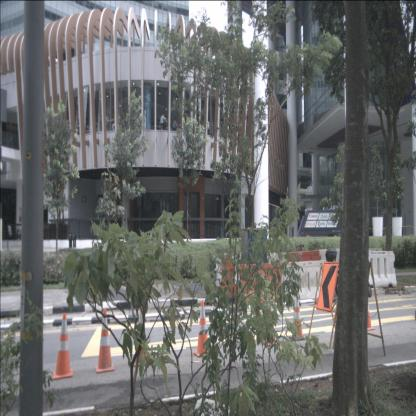movable_object-barrier: (284, 260, 328, 303), (361, 250, 397, 288), (286, 250, 321, 289), (318, 249, 352, 288)
movable_object-trafficcone: (52, 313, 74, 380), (96, 309, 116, 373), (194, 300, 212, 358), (289, 292, 305, 341), (361, 289, 376, 331)
vehicle-motorcycle: (325, 247, 372, 297)
